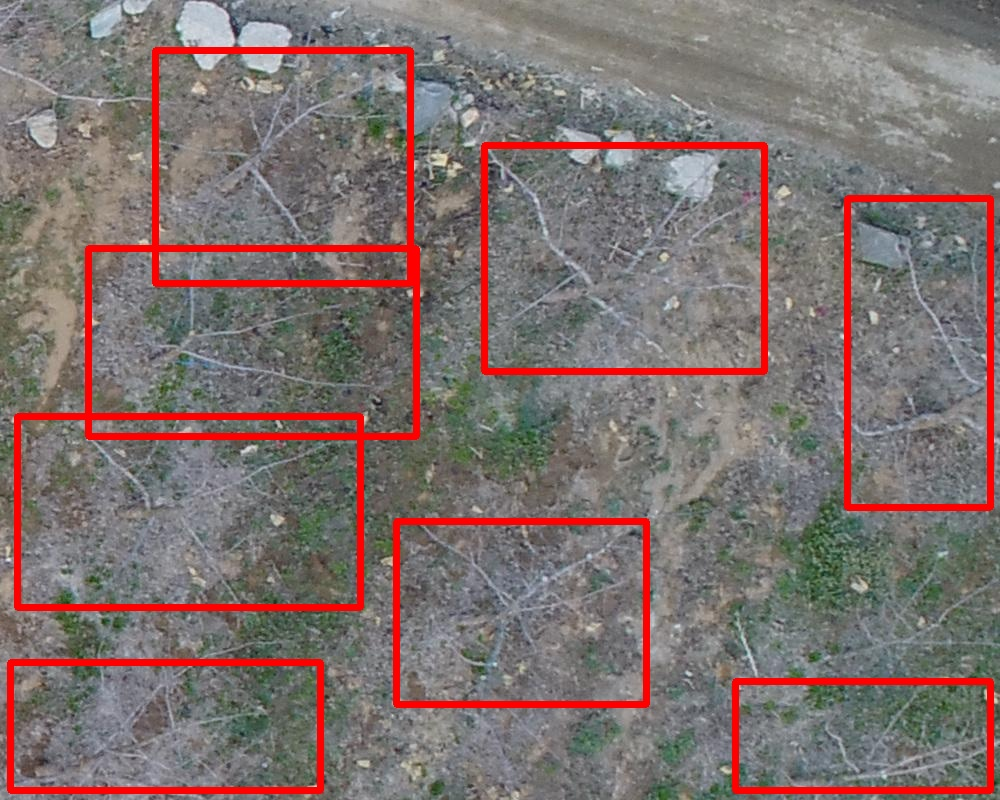apple: (17, 416, 360, 607), (484, 145, 764, 371), (88, 248, 416, 436), (155, 50, 410, 283), (396, 521, 646, 704), (847, 198, 990, 507), (10, 662, 320, 790), (735, 681, 990, 790)
